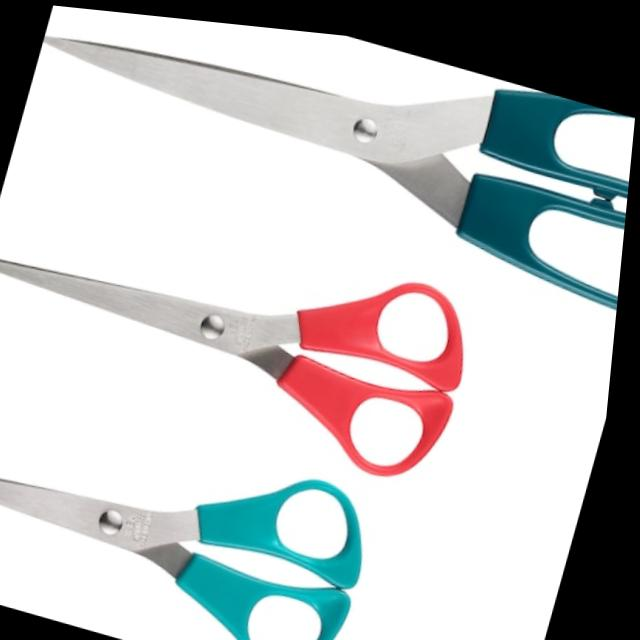scissor: (41, 32, 636, 298), (0, 257, 467, 469), (0, 471, 371, 640)
